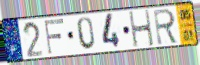0: (75, 16, 96, 52)
2: (22, 20, 44, 59)
4: (101, 12, 124, 52)
F: (44, 18, 66, 56)
H: (128, 9, 156, 49)
R: (152, 8, 180, 47)
